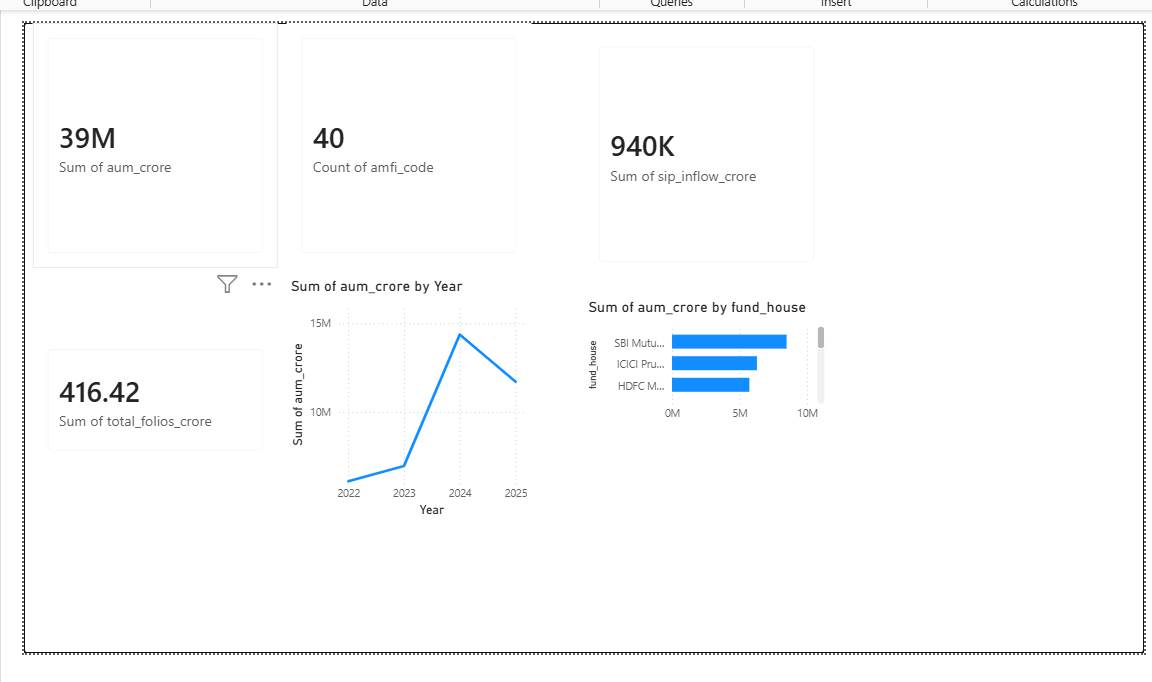

Layout of this report page (visuals, bound fields, positions):
{"tool":"powerbi","page":{"name":"Industry overview","canvas":[1280,720],"ordinal":0},"visuals":[{"type":"cardVisual","fields":{"Data":["Sum(03_aum_by_fund_house.aum_crore)"]},"box":[10,0,280,280],"z":0},{"type":"cardVisual","fields":{"Data":["Sum(04_monthly_sip_inflows.sip_inflow_crore)"]},"box":[640,10,280,280],"z":1},{"type":"cardVisual","fields":{"Data":["Sum(06_industry_folio_count.total_folios_crore)"]},"box":[10,355.7,280,150],"z":2},{"type":"cardVisual","fields":{"Data":["CountNonNull(01_fund_master.amfi_code)"]},"box":[300,0,280,280],"z":3},{"type":"lineChart","fields":{"Category":["03_aum_by_fund_house.date.Variation.Date Hierarchy.Year","03_aum_by_fund_house.date.Variation.Date Hierarchy.Quarter","03_aum_by_fund_house.date.Variation.Date Hierarchy.Month","03_aum_by_fund_house.date.Variation.Date Hierarchy.Day"],"Y":["Sum(03_aum_by_fund_house.aum_crore)"]},"box":[300,290,280,280],"z":4},{"type":"clusteredBarChart","fields":{"Category":["03_aum_by_fund_house.fund_house"],"Y":["Sum(03_aum_by_fund_house.aum_crore)"]},"box":[640,314.3,280,150],"z":5}]}

Visuals, with their boxes on the page's 1280x720 design canvas (x1, y1, x2, y2). These are canvas units, not pixel positions in the 1152x682 screenshot, which may show the page scaled, cropped or inside an application window:
cardVisual - Sum(03_aum_by_fund_house.aum_crore): bbox=(10, 0, 290, 280)
cardVisual - Sum(04_monthly_sip_inflows.sip_inflow_crore): bbox=(640, 10, 920, 290)
cardVisual - Sum(06_industry_folio_count.total_folios_crore): bbox=(10, 356, 290, 506)
cardVisual - CountNonNull(01_fund_master.amfi_code): bbox=(300, 0, 580, 280)
lineChart - 03_aum_by_fund_house.date.Variation.Date Hierarchy.Year x 03_aum_by_fund_house.date.Variation.Date Hierarchy.Quarter: bbox=(300, 290, 580, 570)
clusteredBarChart - 03_aum_by_fund_house.fund_house x Sum(03_aum_by_fund_house.aum_crore): bbox=(640, 314, 920, 464)
